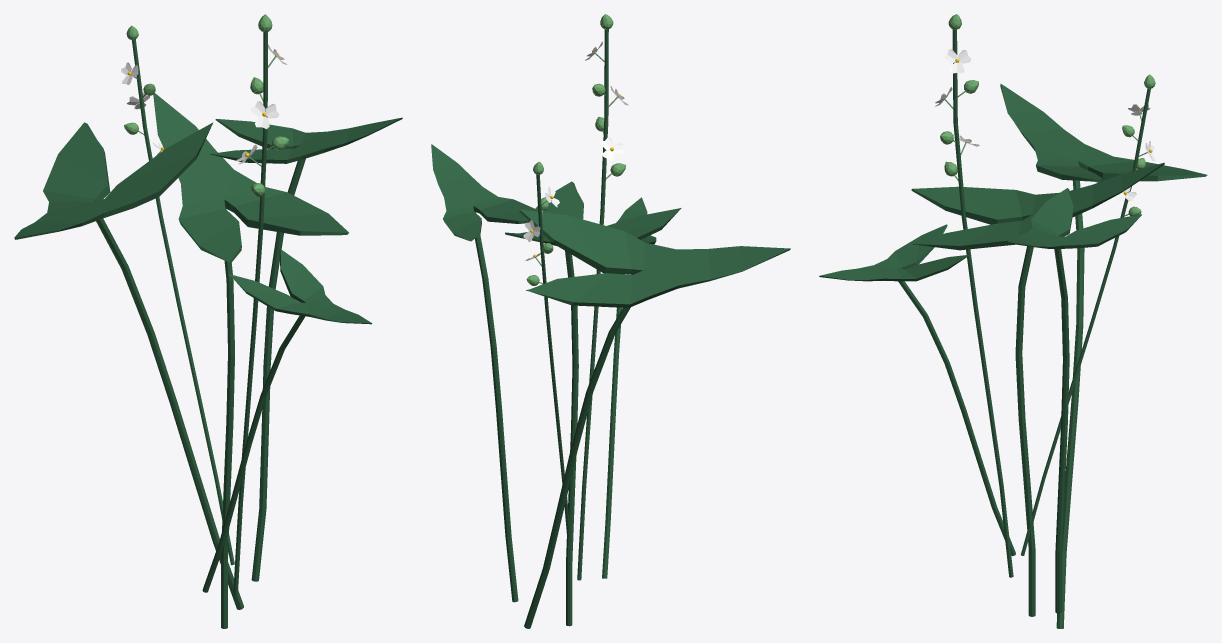
The model's file is mod_Plant_Sagitaire.fbx.
3 views of the same model, side by side, from view 1: azimuth 30°, elevation 25°; view 2: azimuth 150°, elevation 25°; view 3: azimuth 270°, elevation 25° (orthographic). The views are drawn at different scales.
Visible parts, largest first — view 1: TigeSagitaire; view 2: TigeSagitaire; view 3: TigeSagitaire.
Boxes of the visible parts, x1,y1,x2,y2 form: TigeSagitaire: [14, 32, 402, 628]; TigeSagitaire: [431, 29, 790, 628]; TigeSagitaire: [819, 29, 1207, 628].
Size of the model in its own units: 67.78 by 106 by 62.16.
